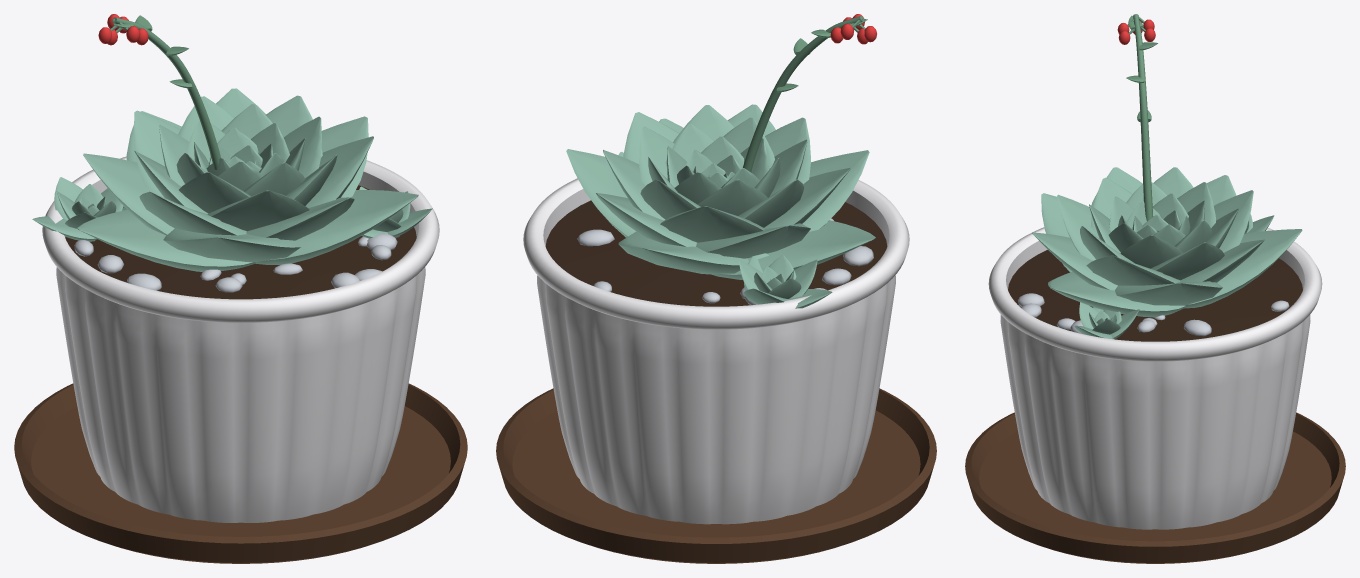
Rendered from Plant.glb.
3 renders of one model, left to right at view 1: azimuth 30°, elevation 25°; view 2: azimuth 150°, elevation 25°; view 3: azimuth 270°, elevation 25°, orthographic. The views are drawn at different scales.
Visible parts, largest first — view 1: Pot__SmoothPlastic__F2F2F5, Leaves__SmoothPlastic__8FB9A8, Saucer__Wood__5A3E2B, Soil__Pebble__3B2A1E, Pebbles__Granite__C9CED6, Stalk__SmoothPlastic__6E9A7E, Buds__SmoothPlastic__E53E3E; view 2: Pot__SmoothPlastic__F2F2F5, Leaves__SmoothPlastic__8FB9A8, Saucer__Wood__5A3E2B, Soil__Pebble__3B2A1E, Stalk__SmoothPlastic__6E9A7E, Pebbles__Granite__C9CED6, Buds__SmoothPlastic__E53E3E; view 3: Pot__SmoothPlastic__F2F2F5, Leaves__SmoothPlastic__8FB9A8, Saucer__Wood__5A3E2B, Soil__Pebble__3B2A1E, Stalk__SmoothPlastic__6E9A7E, Pebbles__Granite__C9CED6, Buds__SmoothPlastic__E53E3E.
Part boxes in pixels (x1,y1,x2,y2): Pot__SmoothPlastic__F2F2F5: [42, 156, 439, 522]; Leaves__SmoothPlastic__8FB9A8: [32, 88, 432, 271]; Saucer__Wood__5A3E2B: [14, 383, 467, 563]; Soil__Pebble__3B2A1E: [65, 185, 416, 299]; Pebbles__Granite__C9CED6: [74, 206, 399, 292]; Stalk__SmoothPlastic__6E9A7E: [110, 15, 220, 169]; Buds__SmoothPlastic__E53E3E: [98, 14, 148, 45]; Pot__SmoothPlastic__F2F2F5: [523, 178, 909, 524]; Leaves__SmoothPlastic__8FB9A8: [566, 104, 875, 308]; Saucer__Wood__5A3E2B: [496, 388, 936, 563]; Soil__Pebble__3B2A1E: [545, 200, 887, 306]; Stalk__SmoothPlastic__6E9A7E: [743, 16, 867, 172]; Pebbles__Granite__C9CED6: [577, 218, 873, 305]; Buds__SmoothPlastic__E53E3E: [830, 14, 876, 44]; Pot__SmoothPlastic__F2F2F5: [988, 227, 1322, 529]; Leaves__SmoothPlastic__8FB9A8: [1032, 167, 1302, 339]; Saucer__Wood__5A3E2B: [965, 412, 1345, 563]; Soil__Pebble__3B2A1E: [1008, 250, 1302, 341]; Stalk__SmoothPlastic__6E9A7E: [1126, 14, 1157, 221]; Pebbles__Granite__C9CED6: [1018, 264, 1289, 336]; Buds__SmoothPlastic__E53E3E: [1117, 19, 1155, 44].
Size of the model in its own units: 48.4 by 58.8 by 48.4.
